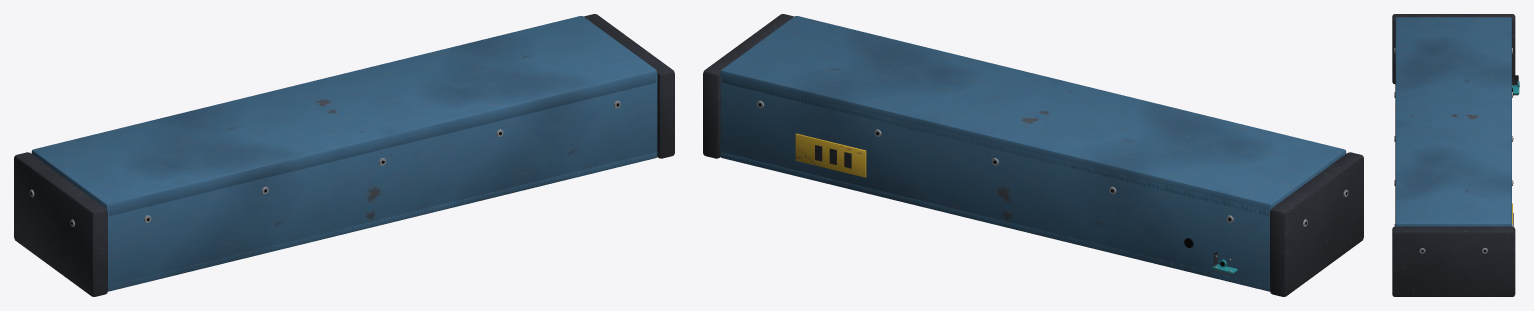
Rendered from frame_beam_light.glb.
The picture shows the model from 3 angles, left to right: view 1: azimuth 30°, elevation 25°; view 2: azimuth 150°, elevation 25°; view 3: azimuth 270°, elevation 25°; orthographic projection. The views are drawn at different scales.
Visible parts, largest first — view 1: Body; view 2: Body; view 3: Body.
Part boxes in pixels (box(x1,y1,x2,y2)): Body: box(14, 14, 674, 296); Body: box(703, 14, 1363, 296); Body: box(1392, 14, 1519, 296).
Size of the model in its own units: 0.9982 by 0.145 by 0.2447.
Materials: 10 (5 with a texture image).
